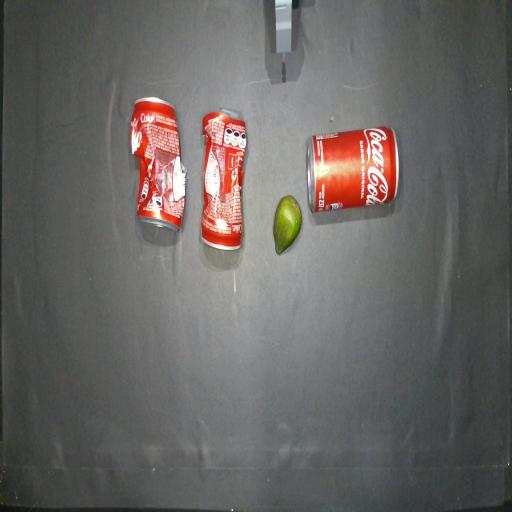higo: (273, 195, 302, 254)
lata: (306, 126, 399, 212)
lata_defectuoso: (130, 99, 185, 229), (202, 110, 248, 249)
